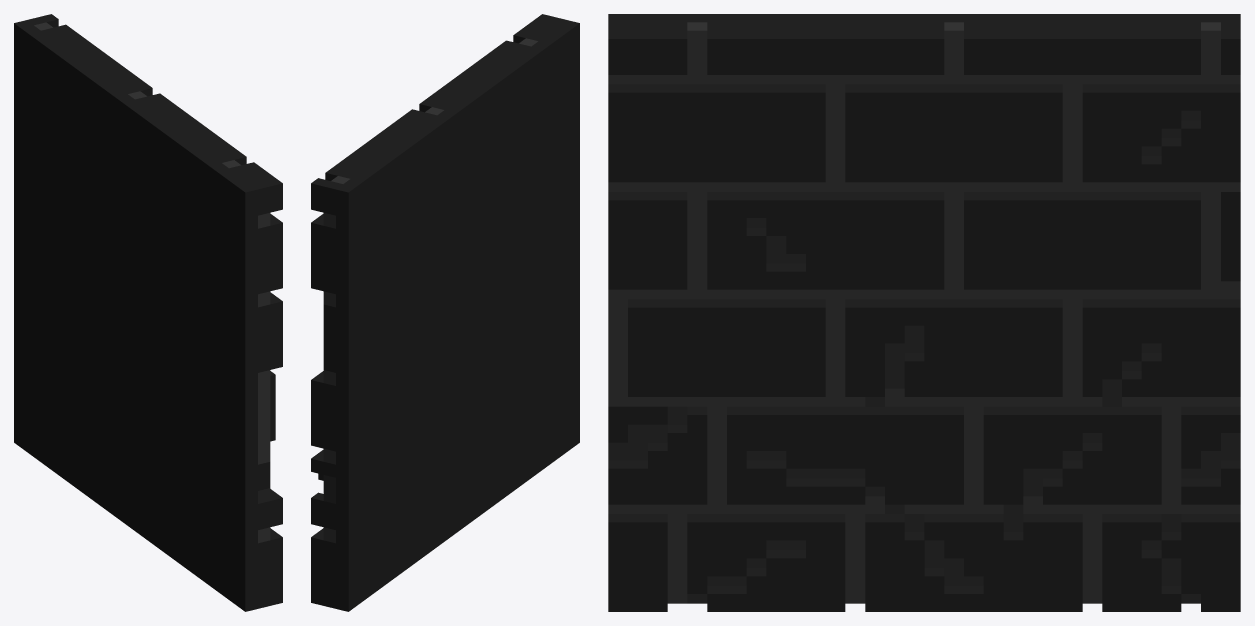
The model's file is STENANaNANA.obj.
3 renders of one model, left to right at view 1: azimuth 30°, elevation 25°; view 2: azimuth 150°, elevation 25°; view 3: azimuth 270°, elevation 25°, orthographic. The views are drawn at different scales.
Visible parts, largest first — view 1: Cстена м1; view 2: Cстена м1; view 3: Cстена м1.
Boxes of the visible parts, x1,y1,x2,y2 form: Cстена м1: (14,14,282,611); Cстена м1: (311,14,579,611); Cстена м1: (608,14,1240,611).
Bounding box in the file's own units: 0.3 × 3.2 × 3.2.
Materials: 1 (1 with a texture image).
